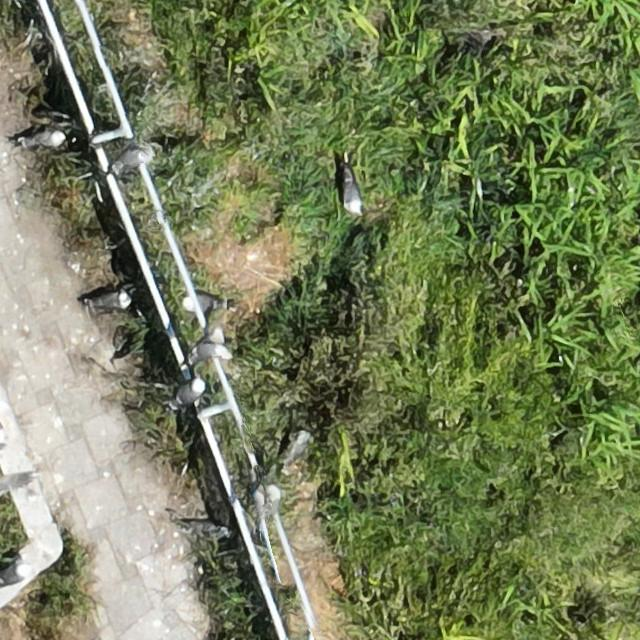umineko: (175, 380, 205, 406), (114, 149, 150, 170), (342, 175, 361, 213), (26, 128, 66, 146), (87, 292, 126, 310), (191, 342, 225, 358), (188, 294, 218, 311), (2, 566, 25, 584)
